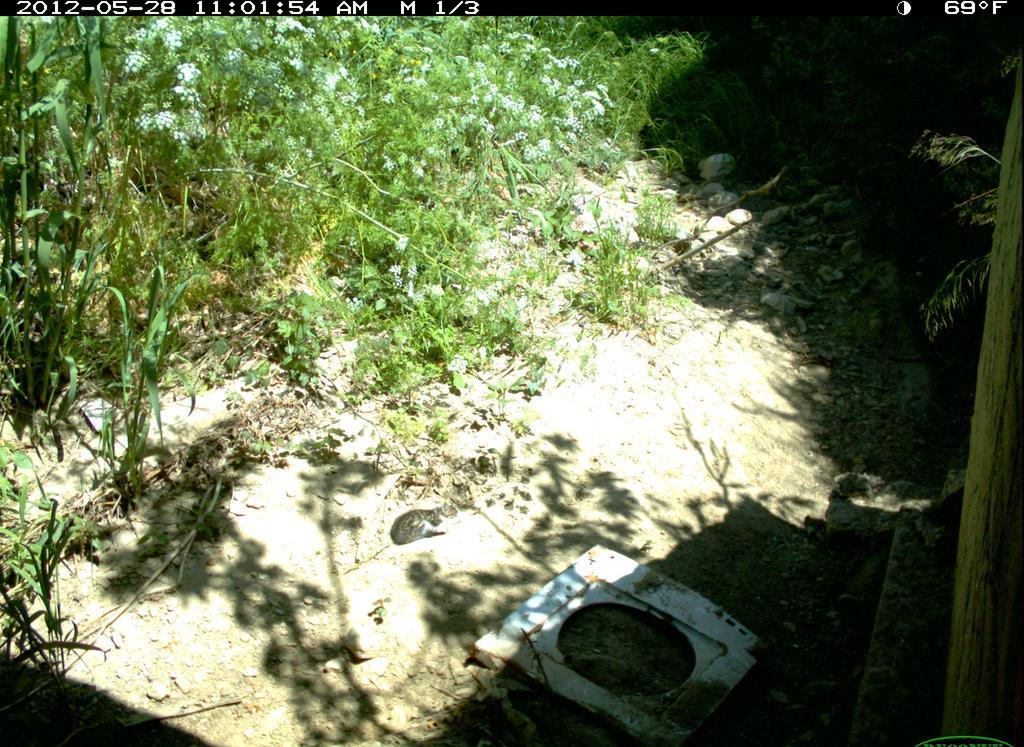cat: (377, 487, 472, 557)
